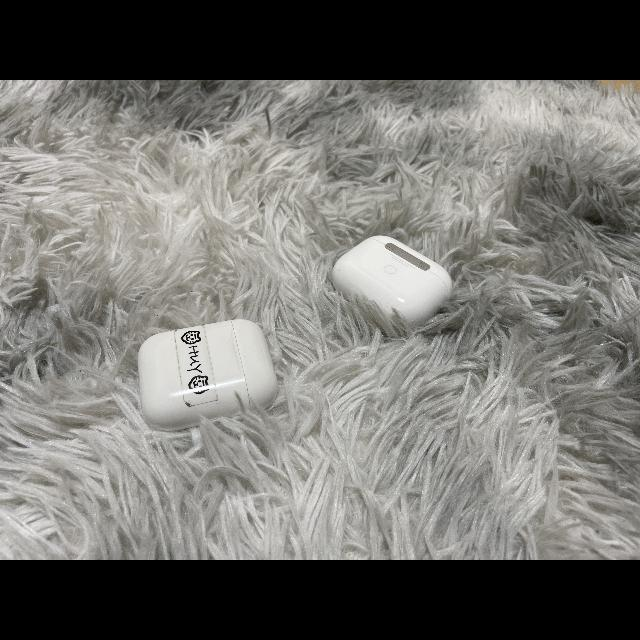airpod2: (128, 316, 282, 434)
airpod3: (321, 228, 455, 332)
